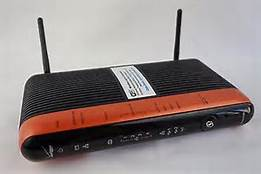Verizon Router: (19, 12, 255, 165)
